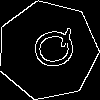Q: (23, 25, 78, 73)
